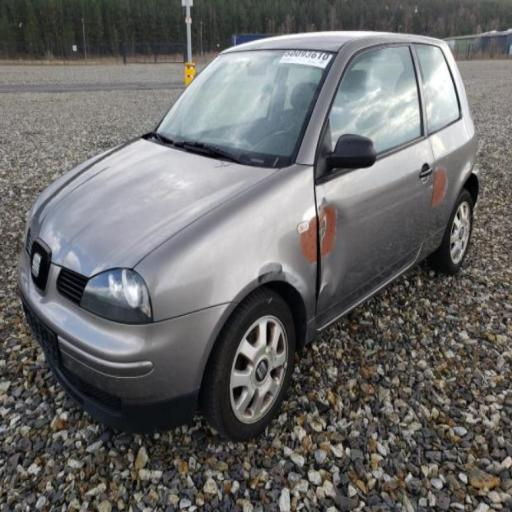dent: (255, 256, 288, 289)
rust: (297, 199, 339, 263), (426, 165, 450, 206)
